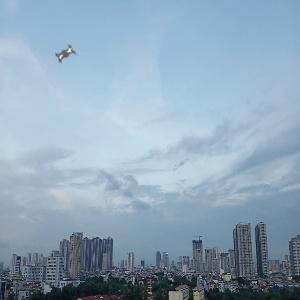drone: (40, 30, 91, 81)
